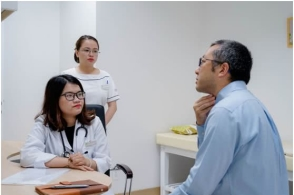no_mask: (192, 38, 253, 94), (41, 74, 87, 119), (72, 34, 100, 68)
